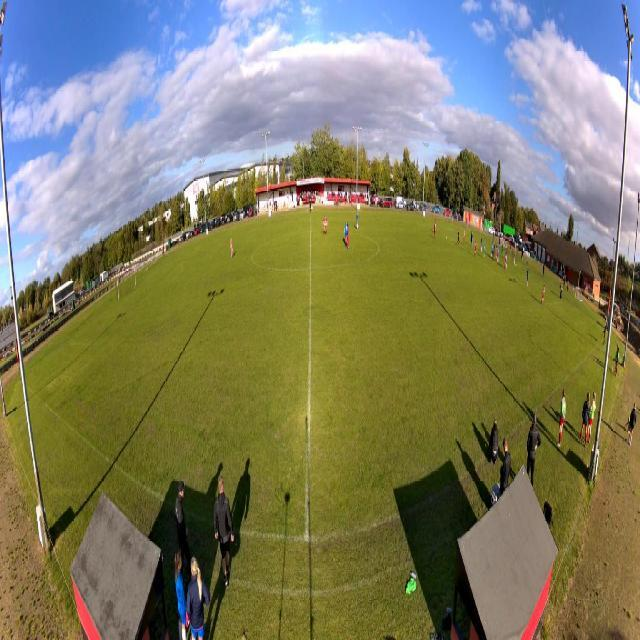ball: (446, 236, 447, 240)
player: (323, 213, 329, 237), (540, 285, 545, 307), (346, 223, 350, 250), (344, 220, 348, 246), (230, 237, 234, 258), (474, 239, 478, 258), (456, 230, 460, 247), (526, 267, 529, 287), (356, 211, 359, 230), (433, 221, 436, 240), (491, 241, 494, 260), (496, 245, 499, 264), (480, 235, 483, 253), (504, 253, 507, 270), (434, 218, 437, 234), (501, 242, 504, 258), (483, 240, 485, 260), (493, 241, 495, 261), (506, 250, 508, 270), (463, 229, 465, 247), (495, 245, 497, 263), (471, 231, 473, 248)
